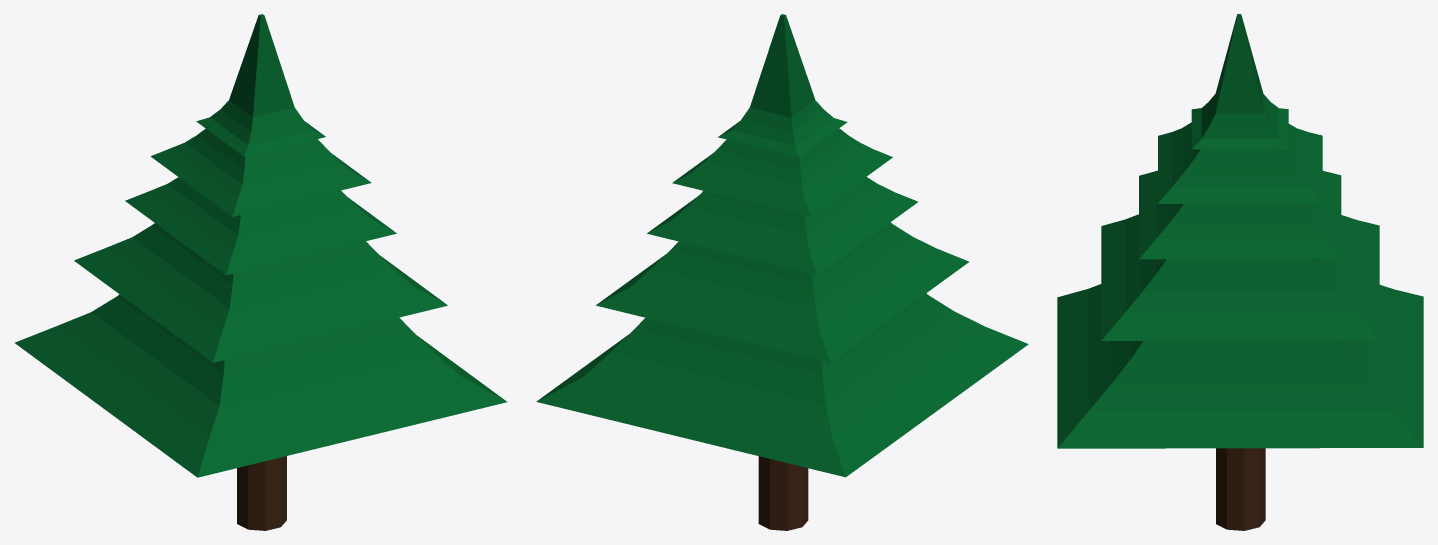
The model's file is Tree3.fbx.
3 renders of one model, left to right at view 1: azimuth 30°, elevation 25°; view 2: azimuth 150°, elevation 25°; view 3: azimuth 270°, elevation 25°, orthographic.
Parts seen in each view (by area): view 1: Cube, Cube.001, Cube.002, Cube.003, Cube.004, Cylinder; view 2: Cube, Cube.001, Cube.002, Cube.003, Cube.004, Cylinder; view 3: Cube, Cube.001, Cube.002, Cube.003, Cube.004, Cylinder.
Part boxes in pixels (x1,y1,x2,y2): Cube: (14, 294, 507, 477); Cube.001: (74, 223, 447, 362); Cube.002: (125, 177, 396, 275); Cube.003: (150, 128, 371, 216); Cube.004: (196, 14, 325, 156); Cylinder: (237, 456, 286, 530); Cube: (536, 293, 1028, 477); Cube.001: (596, 222, 969, 362); Cube.002: (647, 177, 918, 275); Cube.003: (672, 128, 892, 216); Cube.004: (718, 14, 847, 157); Cylinder: (758, 456, 808, 530); Cube: (1057, 284, 1423, 448); Cube.001: (1101, 214, 1379, 340); Cube.002: (1139, 170, 1341, 259); Cube.003: (1158, 122, 1322, 203); Cube.004: (1191, 14, 1288, 149); Cylinder: (1216, 448, 1265, 530).
Size of the model in its own units: 485 by 756 by 497.
